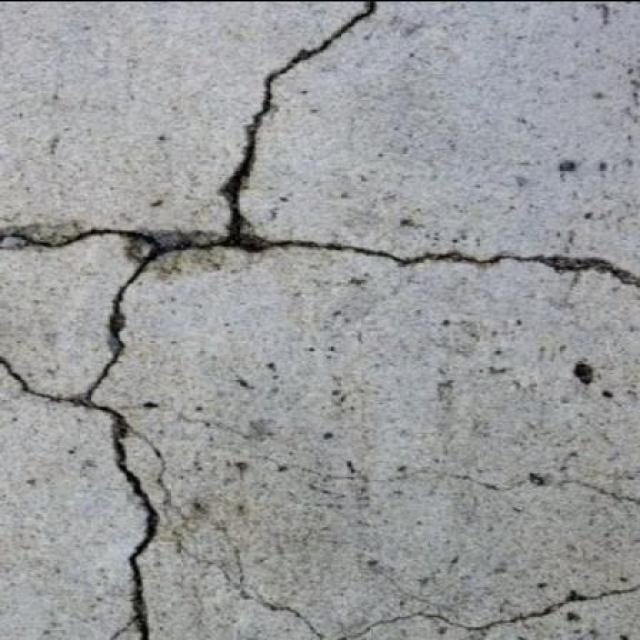Crack: (0, 0, 639, 640), (338, 582, 639, 639), (235, 553, 327, 640)
